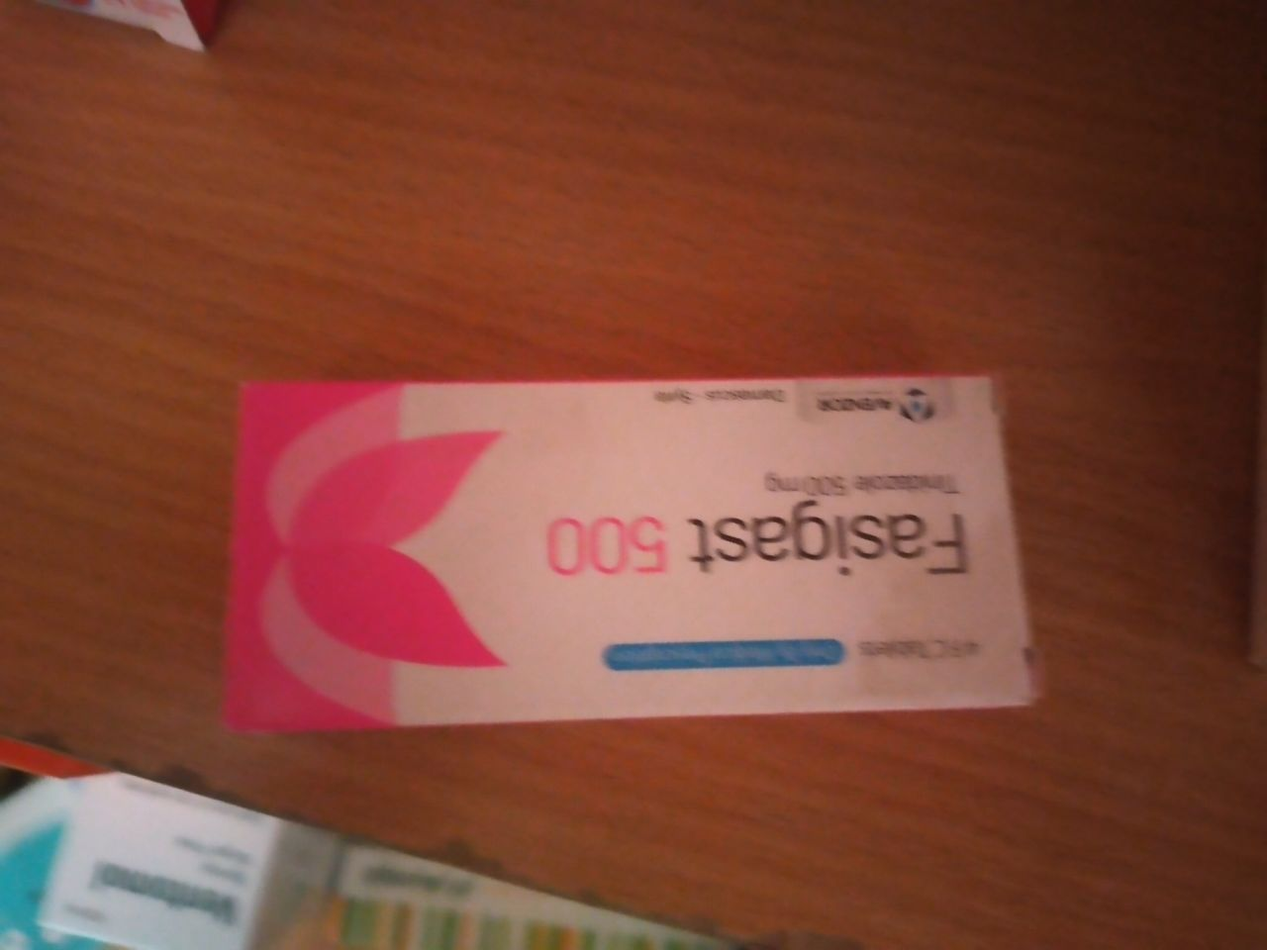Medicine: (203, 356, 1104, 737)
